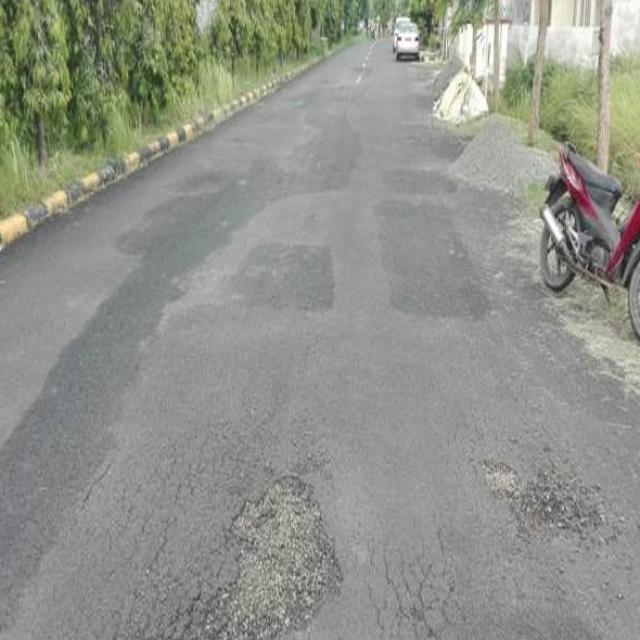Sambungan: (372, 206, 490, 314), (225, 235, 344, 309)
